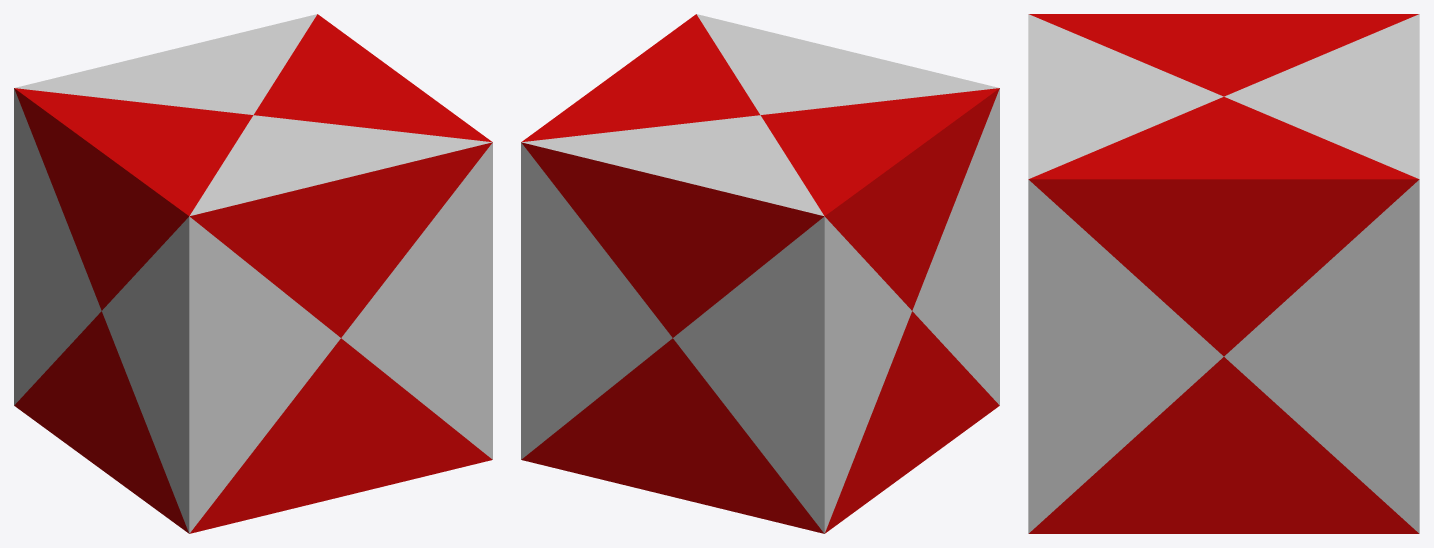
File: GlenzCube.fbx
3 renders of one model, left to right at view 1: azimuth 30°, elevation 25°; view 2: azimuth 150°, elevation 25°; view 3: azimuth 270°, elevation 25°, orthographic. The views are drawn at different scales.
Visible parts, largest first — view 1: GlenzCube; view 2: GlenzCube; view 3: GlenzCube.
Boxes of the visible parts, box(x1,y1,x2,y2) form: GlenzCube: box(14, 14, 492, 533); GlenzCube: box(521, 14, 999, 533); GlenzCube: box(1028, 14, 1419, 533).
Bounding box in the file's own units: 100 × 100 × 100.
